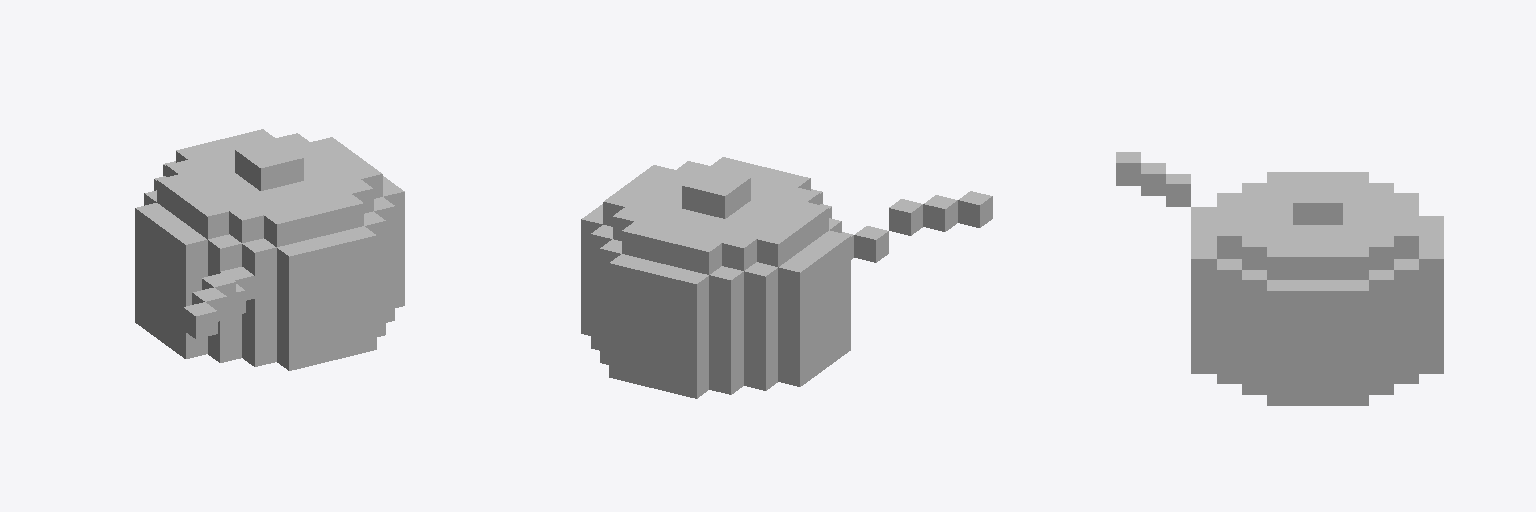
File: cooking_saucepan_potlid.obj
3 views of the same model, side by side, from view 1: azimuth 30°, elevation 25°; view 2: azimuth 150°, elevation 25°; view 3: azimuth 270°, elevation 25° (orthographic).
Parts seen in each view (by area): view 1: node_0_0_0.003, node_0_0_0.002; view 2: node_0_0_0.003, node_0_0_0.002; view 3: node_0_0_0.003, node_0_0_0.002.
Boxes of the visible parts, box(x1,y1,x2,y2) form: node_0_0_0.003: box(135, 129, 404, 279); node_0_0_0.002: box(135, 214, 404, 370); node_0_0_0.003: box(581, 157, 850, 306); node_0_0_0.002: box(581, 191, 992, 398); node_0_0_0.003: box(1191, 172, 1443, 313); node_0_0_0.002: box(1116, 152, 1443, 405).
Bounding box in the file's own units: 0.8125 × 0.4375 × 0.8125.